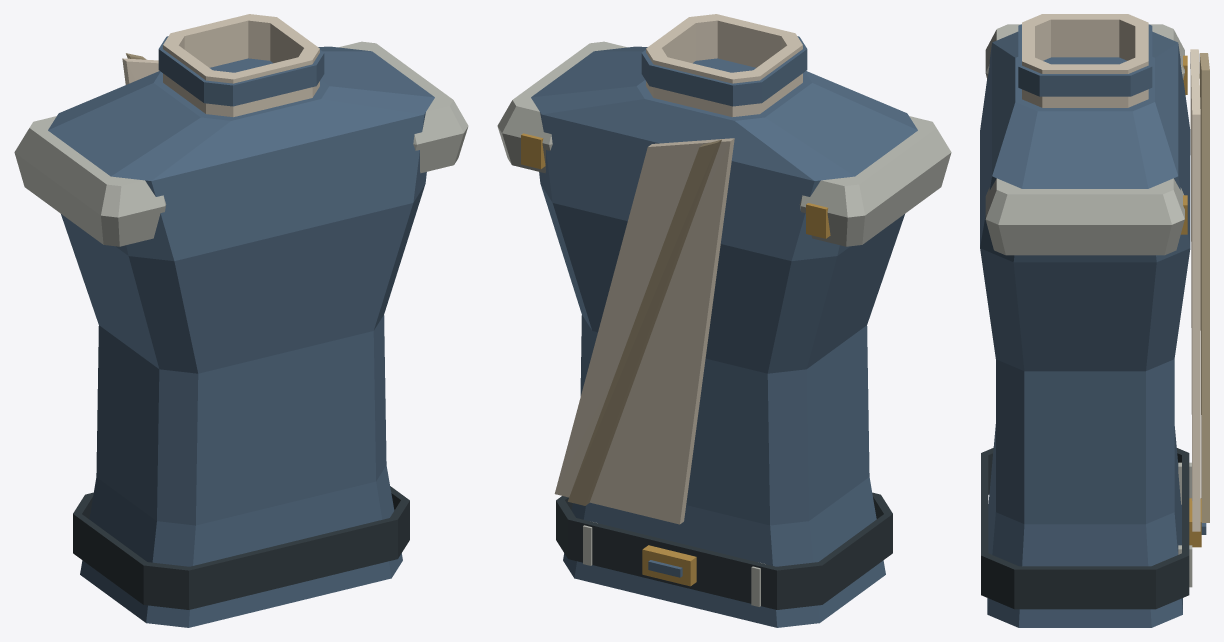
File: visual-far.glb
3 views of the same model, side by side, from view 1: azimuth 30°, elevation 25°; view 2: azimuth 150°, elevation 25°; view 3: azimuth 270°, elevation 25° (orthographic).
Parts seen in each view (by area): view 1: 现有程序躯干 · 同用途配色; view 2: 现有程序躯干 · 同用途配色; view 3: 现有程序躯干 · 同用途配色.
Boxes of the visible parts, <box> form: 现有程序躯干 · 同用途配色: <box>14,14,468,627</box>; 现有程序躯干 · 同用途配色: <box>497,14,951,627</box>; 现有程序躯干 · 同用途配色: <box>980,14,1209,627</box>.
Bounding box in the file's own units: 0.458 × 0.62 × 0.247.
6 materials, 6 textured.
